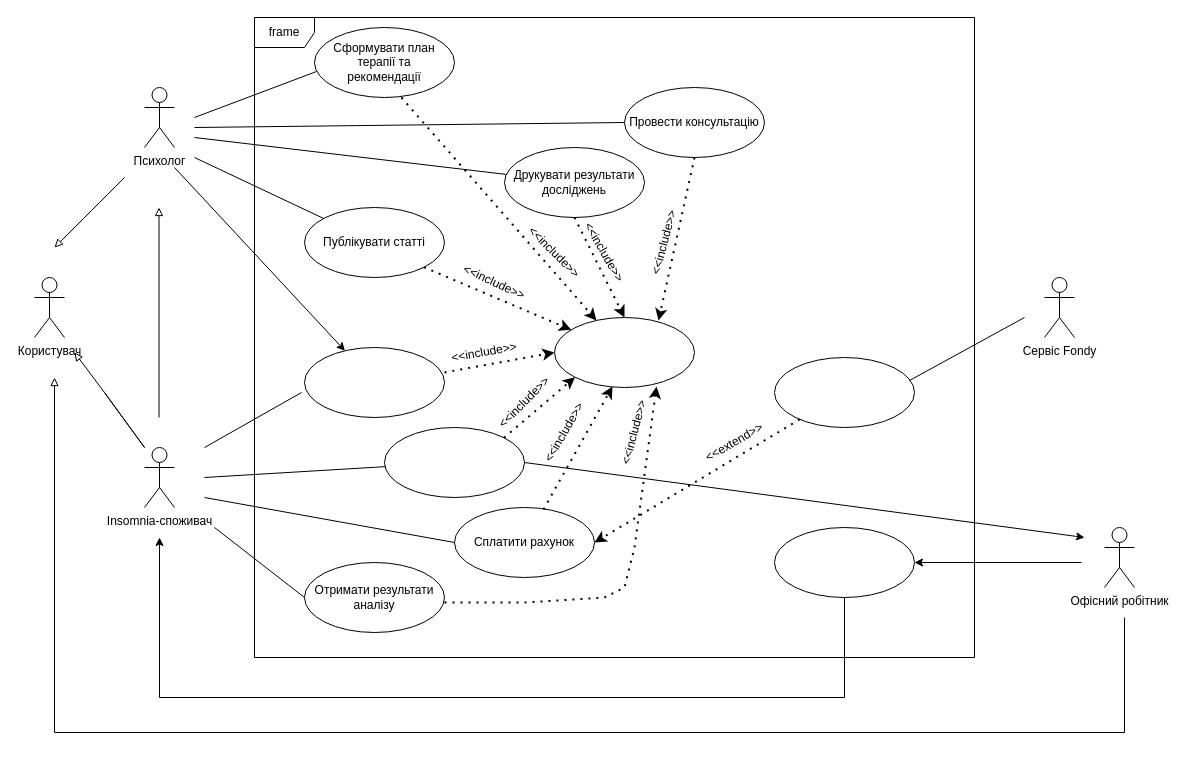
The diagram is 1185 pixels wide and 758 high, and some of its shapes have lost their labels. Here are the shapes that lost their labels. From the top down, the box of each, then its label:
(554, 316, 694, 388): Авторизувати користувача
(304, 346, 444, 418): Отримати рекомендацію
(774, 356, 914, 428): E-Сплата
(384, 426, 524, 498): Подати заявку на пошук спеціаліста
(774, 526, 914, 598): Надати спеціаліста
